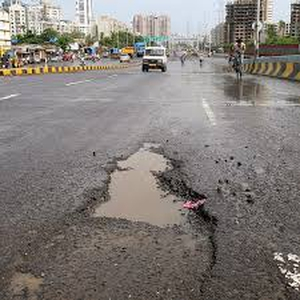pothole: (93, 145, 204, 231)
